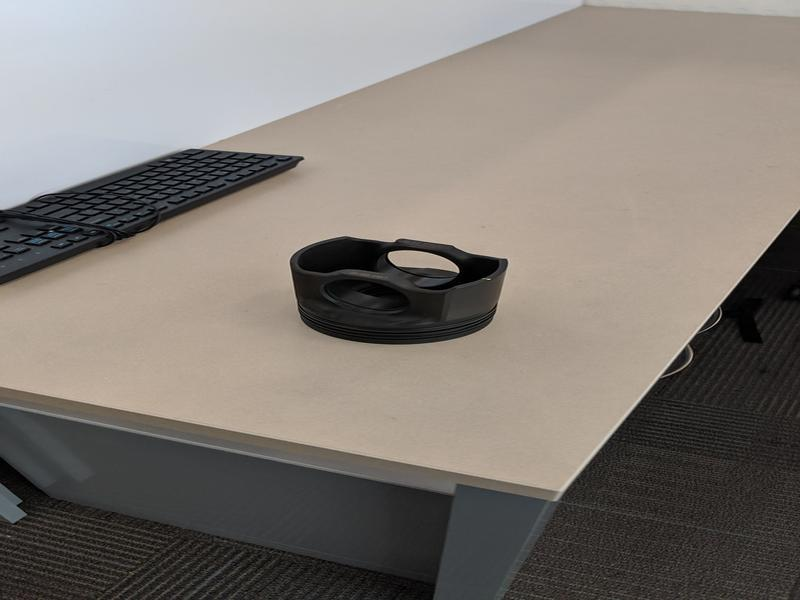piston: (287, 233, 513, 349)
